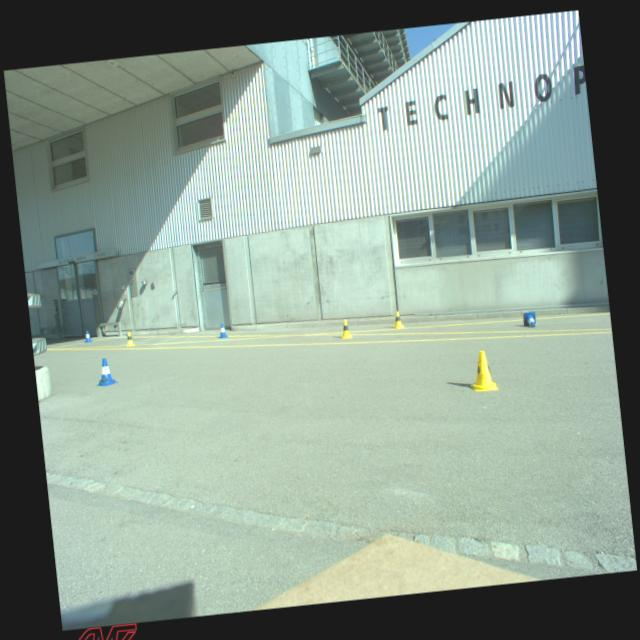blue_cone: (93, 356, 118, 386), (522, 311, 536, 328), (216, 322, 228, 338), (83, 330, 92, 342)
yellow_cone: (466, 349, 498, 392), (339, 319, 352, 339), (390, 310, 404, 328), (124, 331, 136, 346)
